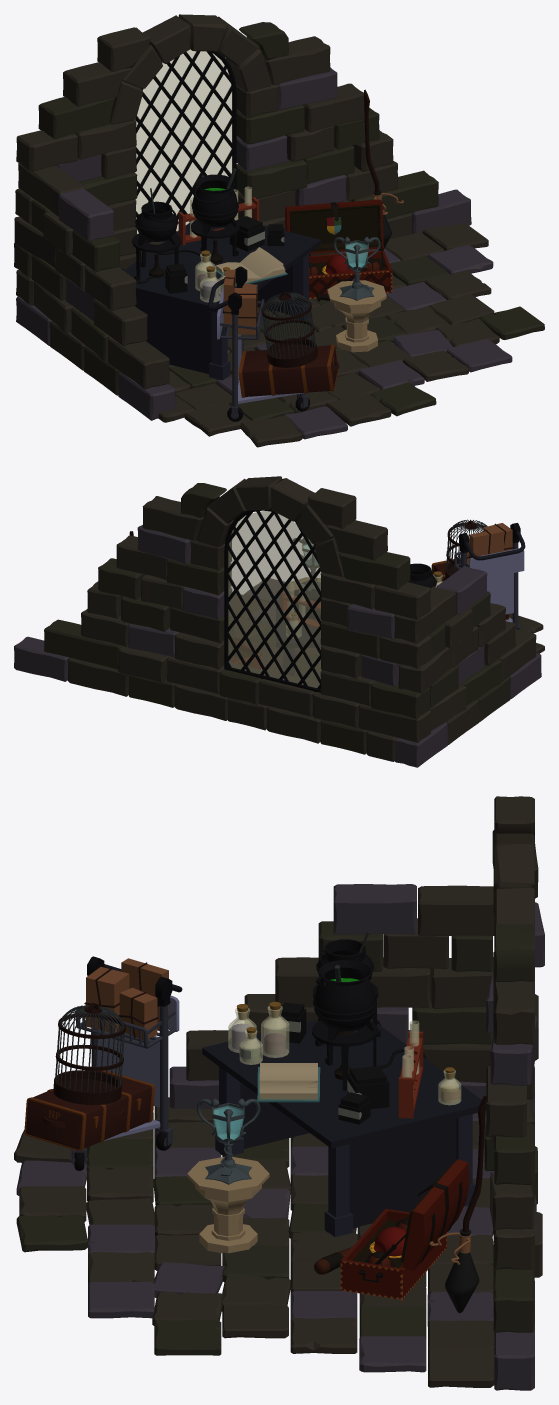
Rendered from HPcorner.fbx.
3 views of the same model, one above another, from view 1: azimuth 30°, elevation 25°; view 2: azimuth 150°, elevation 25°; view 3: azimuth 270°, elevation 25° (orthographic). The views are drawn at different scales.
Visible parts, largest first — view 1: Group070, Box321, Plane002, Box460, Plane001, Group071, Object012, Box459, Box435, Box431, Box464, Box407 (+73 smaller); view 2: Plane002, Plane001, Box460, Box321, Group070, Box393, Box459, Box425, Box399, Box464, Box461, Box397 (+58 smaller); view 3: Group070, Box321, Group071, Box320, Box431, Box425, Box460, Object013, Box393, Box422, Box447, Box464 (+65 smaller).
Boxes of the visible parts, <box> form: Group070: <box>122,168,321,380</box>; Box321: <box>207,266,339,421</box>; Plane002: <box>135,49,232,233</box>; Box460: <box>109,14,271,124</box>; Plane001: <box>135,51,233,233</box>; Group071: <box>327,236,386,352</box>; Object012: <box>289,204,380,251</box>; Box459: <box>38,97,114,138</box>; Box435: <box>108,336,169,389</box>; Box431: <box>59,188,113,241</box>; Box464: <box>263,36,330,84</box>; Box407: <box>236,159,307,199</box>; Plane002: <box>228,511,321,687</box>; Plane001: <box>227,511,321,689</box>; Box460: <box>196,476,344,577</box>; Box321: <box>433,519,525,630</box>; Group070: <box>276,563,437,676</box>; Box393: <box>44,619,122,669</box>; Box459: <box>339,552,410,589</box>; Box425: <box>394,586,456,643</box>; Box399: <box>358,704,430,742</box>; Box464: <box>142,496,203,540</box>; Box461: <box>326,520,387,560</box>; Box397: <box>259,672,319,716</box>; Group070: <box>202,931,486,1237</box>; Box321: <box>26,956,182,1170</box>; Group071: <box>187,1098,269,1253</box>; Box320: <box>352,1159,469,1271</box>; Box431: <box>333,884,416,934</box>; Box425: <box>418,885,494,936</box>; Box460: <box>494,833,534,925</box>; Object013: <box>340,1209,446,1298</box>; Box393: <box>493,1247,534,1332</box>; Box422: <box>412,999,492,1044</box>; Box447: <box>428,1347,494,1387</box>; Box464: <box>494,980,534,1044</box>.
Size of the model in its own units: 209 by 121 by 160.
